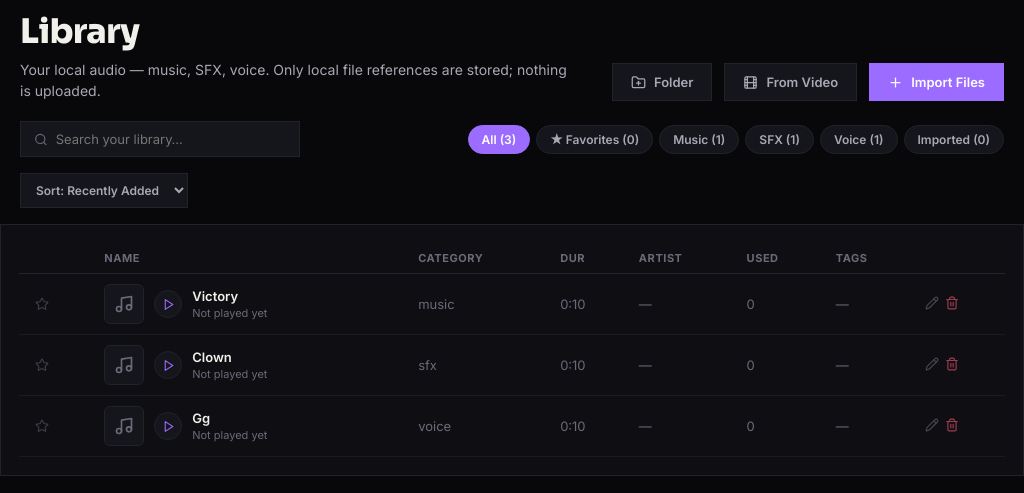
Test: LibraryPage › searches by title
The width and height of the screenshot is (1024, 493).
Type "clown" into the field with placeholder "Search your library…" at (171, 139), box [56,131,286,147]
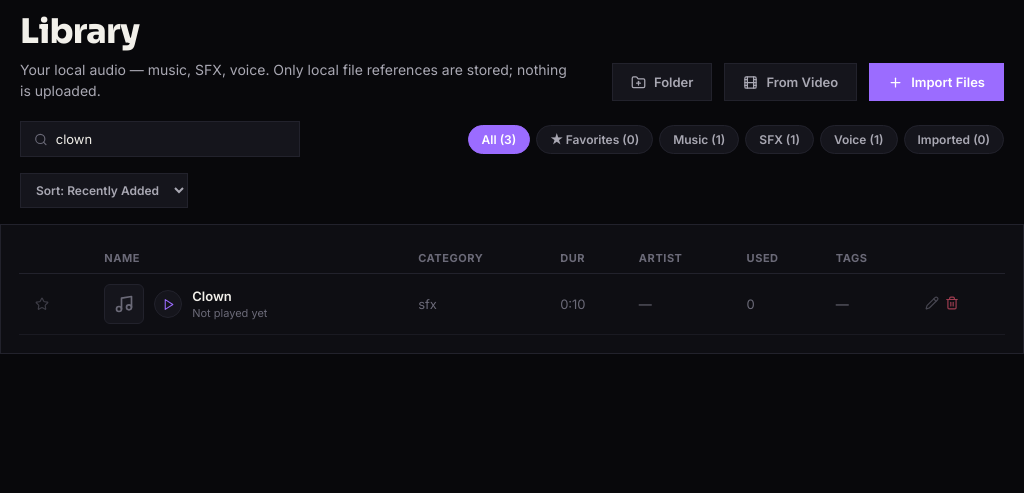
Check: the text "Clown" is shown, box [192,288,232,304]
Check: the text "Victory" is gone
Check: the text "Gg" is gone
